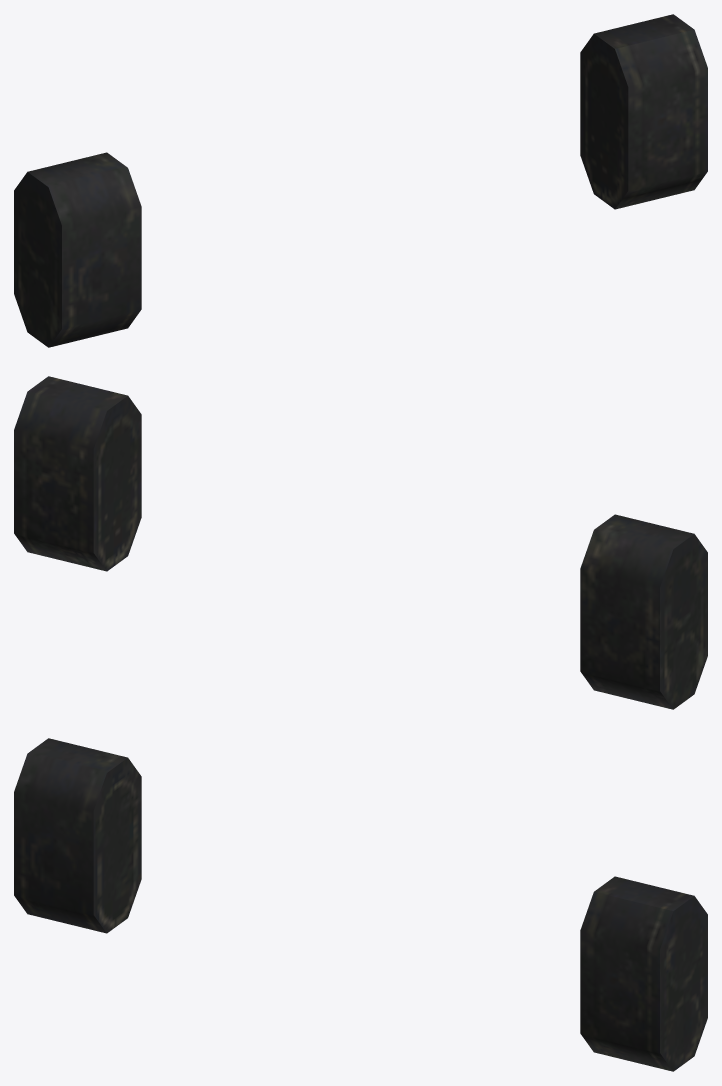
The picture shows the model from 3 angles, top to bottom: view 1: azimuth 30°, elevation 25°; view 2: azimuth 150°, elevation 25°; view 3: azimuth 330°, elevation 25°; orthographic projection.
Visible parts, largest first — view 1: set_0_group_0; view 2: set_0_group_0; view 3: set_0_group_0.
Part boxes in pixels (box(x1,y1,x2,y2)): set_0_group_0: box(14, 14, 707, 347); set_0_group_0: box(14, 376, 707, 709); set_0_group_0: box(14, 738, 707, 1071).
Size of the model in its own units: 0.4499 by 0.1069 by 0.0579.
1 material, 1 textured.
